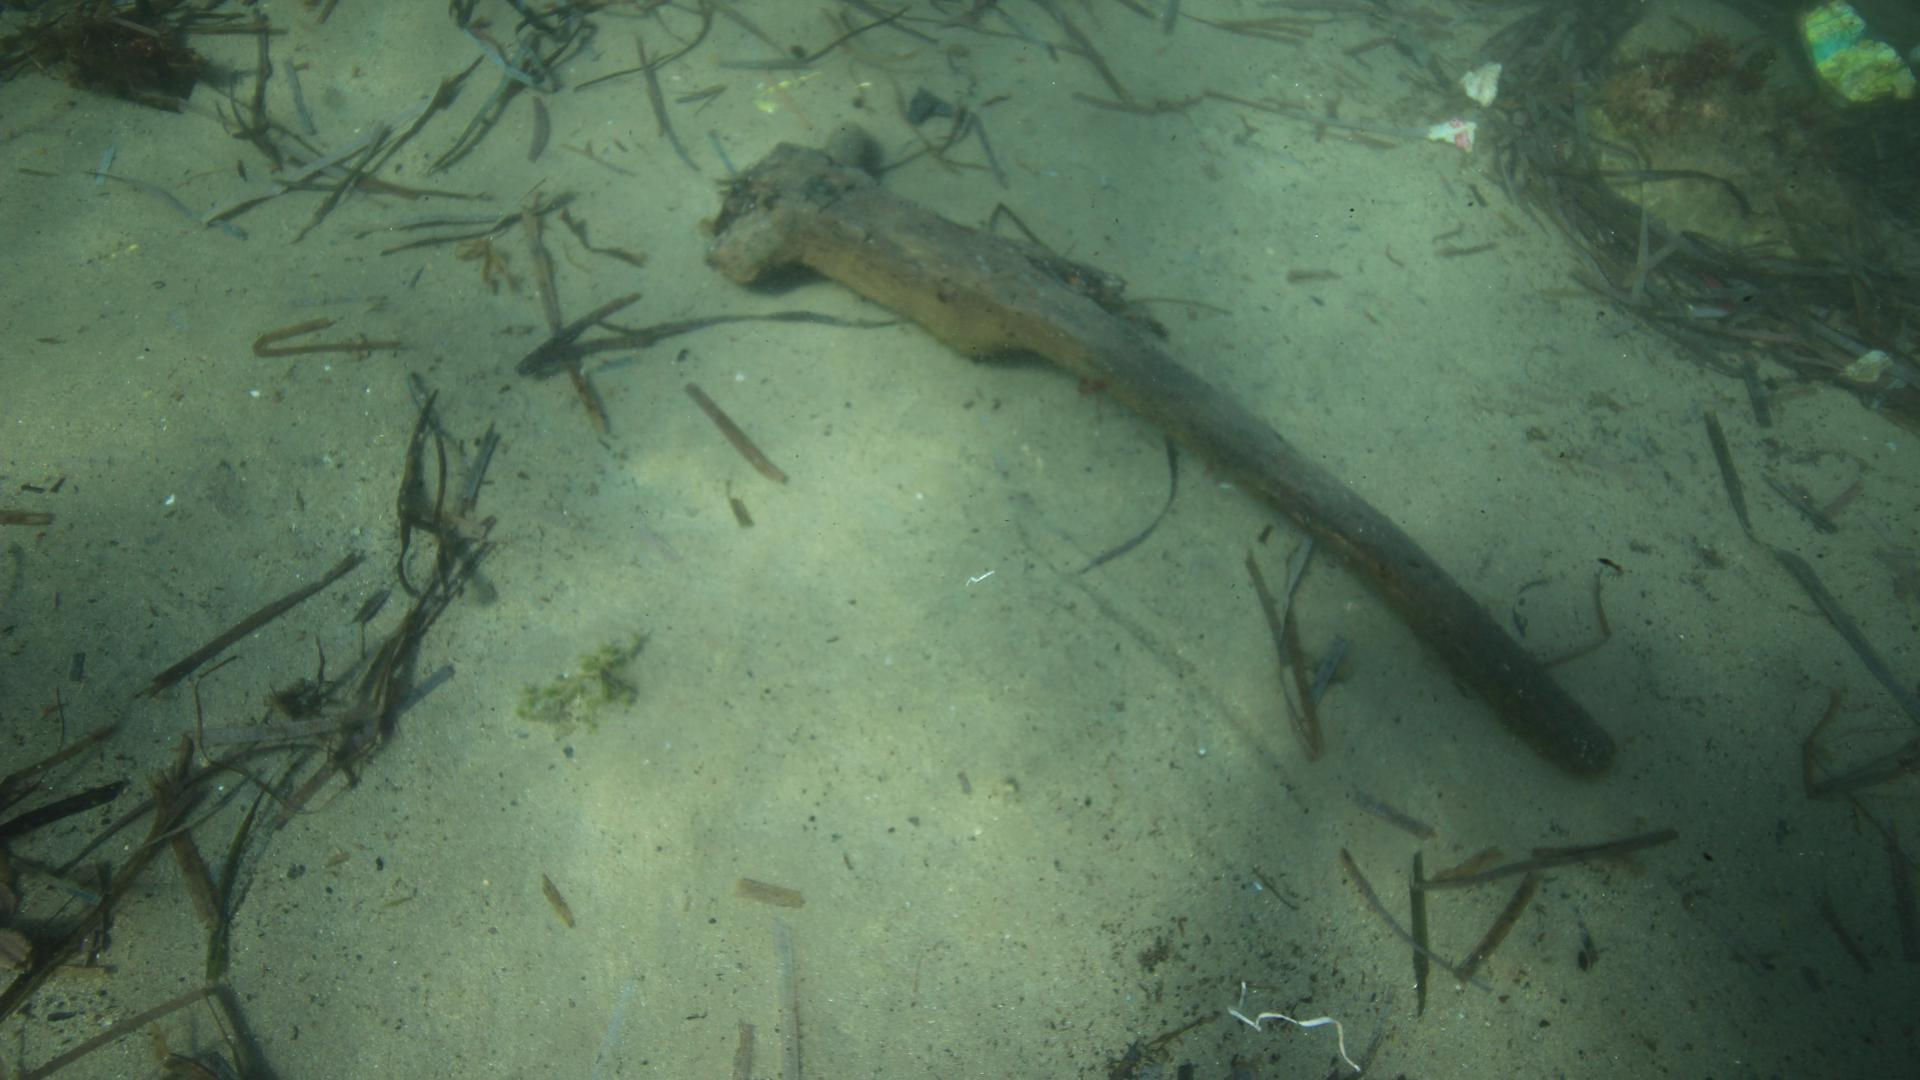wood: (703, 119, 1621, 778)
